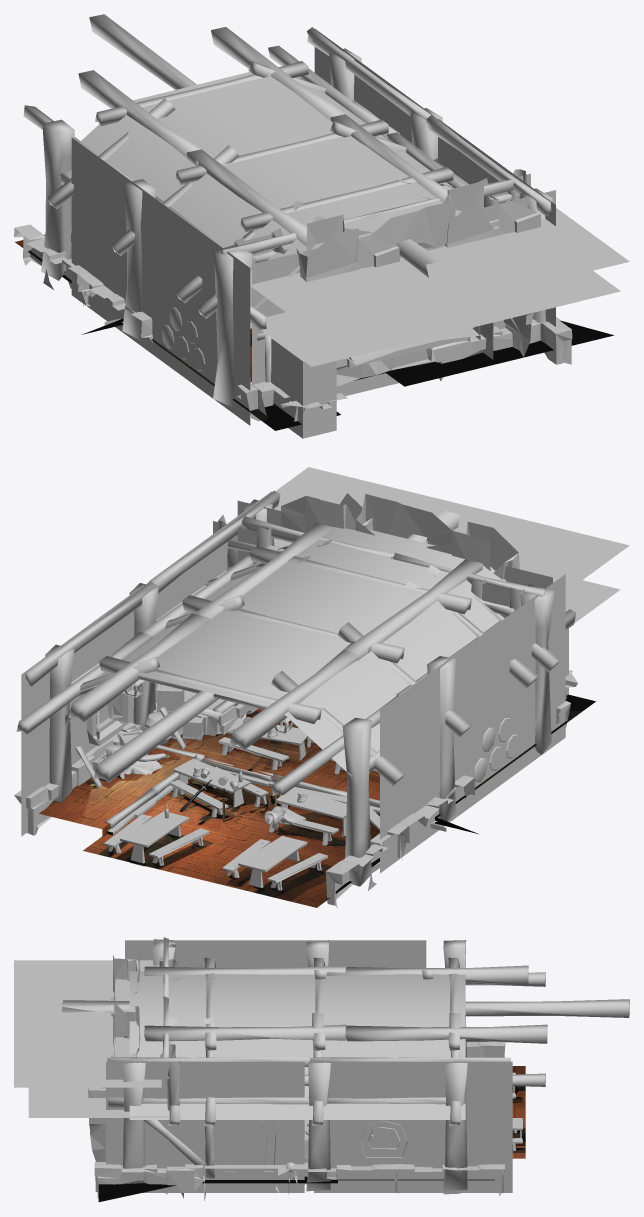
Rendered from Selection_Screen_Mesh.FBX.
The picture shows the model from 3 angles, top to bottom: view 1: azimuth 30°, elevation 25°; view 2: azimuth 150°, elevation 25°; view 3: azimuth 270°, elevation 25°; orthographic projection. The views are drawn at different scales.
Visible parts, largest first — view 1: Menu_Mesh_Bake, Selection_Scene_Menu; view 2: Menu_Mesh_Bake, Selection_Scene_Menu; view 3: Menu_Mesh_Bake, Selection_Scene_Menu.
Boxes of the visible parts, left/top/right/bottom form: Menu_Mesh_Bake: left=14, top=14, right=629, bottom=438; Selection_Scene_Menu: left=15, top=234, right=613, bottom=430; Menu_Mesh_Bake: left=14, top=467, right=629, bottom=907; Selection_Scene_Menu: left=39, top=694, right=595, bottom=907; Menu_Mesh_Bake: left=14, top=937, right=629, bottom=1200; Selection_Scene_Menu: left=98, top=1066, right=525, bottom=1201.
Bounding box in the file's own units: 57.96 × 26.67 × 93.48.
